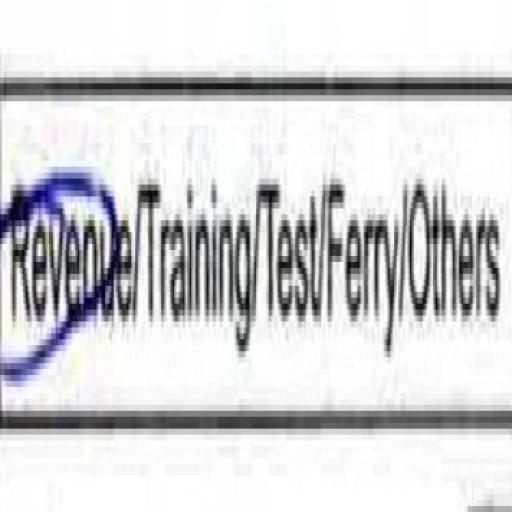check: (1, 16, 135, 503)
